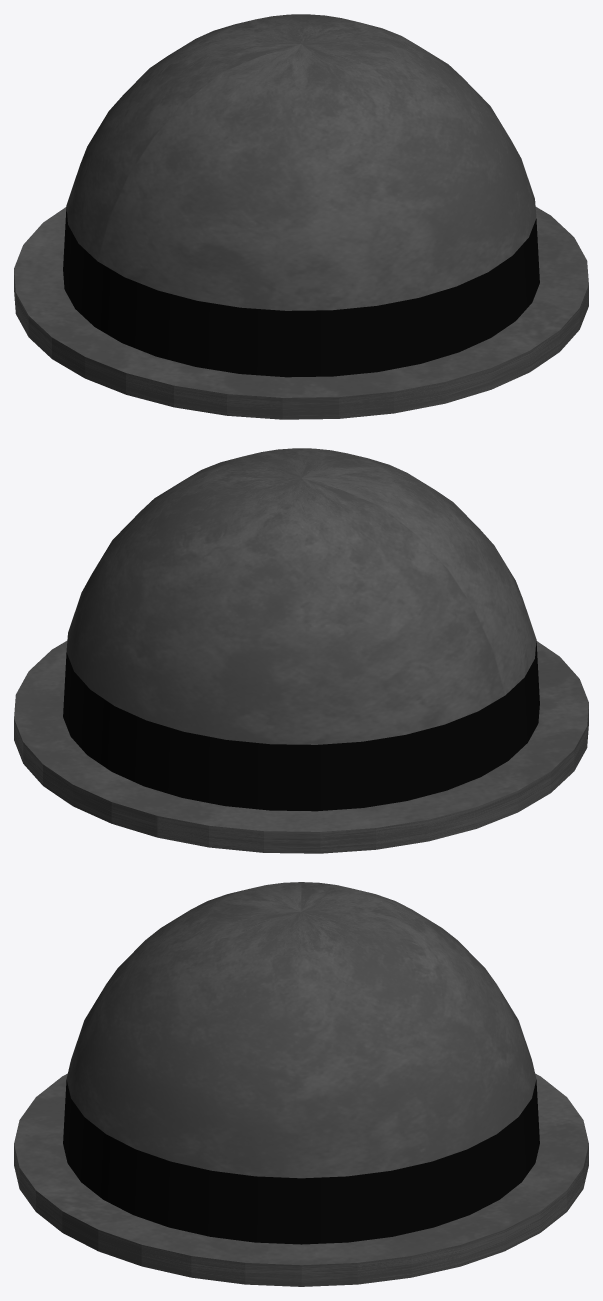
The model's file is Hat.fbx.
The picture shows the model from 3 angles, top to bottom: view 1: azimuth 30°, elevation 25°; view 2: azimuth 150°, elevation 25°; view 3: azimuth 270°, elevation 25°; orthographic projection.
Visible parts, largest first — view 1: Hat; view 2: Hat; view 3: Hat.
Part boxes in pixels (left/top/right/bottom): Hat: left=14, top=14, right=588, bottom=419; Hat: left=14, top=448, right=588, bottom=853; Hat: left=14, top=882, right=588, bottom=1286.
Bounding box in the file's own units: 2.4 × 1.17 × 2.4.
